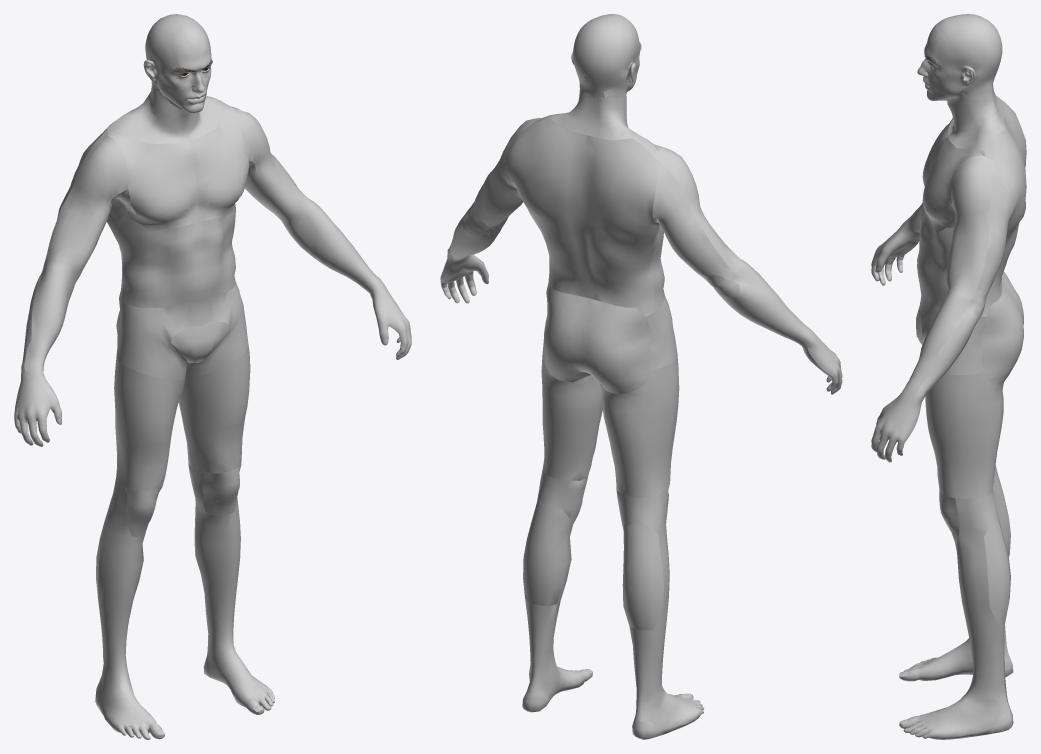
Rendered from man.gltf.
3 renders of one model, left to right at view 1: azimuth 30°, elevation 25°; view 2: azimuth 150°, elevation 25°; view 3: azimuth 270°, elevation 25°, orthographic.
Parts seen in each view (by area): view 1: Arms Front Side, Thighs, Legs, Chest, Abdomen, Private Area, Feet, Backhand, Neck, Knees, Face, Scalp (+3 smaller); view 2: Back, Thighs, Arms Back Side, Buttocks, Legs, Calf, Scalp, Arms Front Side, Feet, Neck, Hands, Private Area (+4 smaller); view 3: Thighs, Arms Front Side, Legs, Feet, Arms Back Side, Scalp, Back, Buttocks, Neck, Backhand, Chest, Calf (+6 smaller).
Part boxes in pixels (x1=…): Arms Front Side: x1=24, y1=106, x2=383, y2=371; Thighs: x1=114, y1=344, x2=250, y2=491; Legs: x1=98, y1=464, x2=240, y2=675; Chest: x1=109, y1=106, x2=248, y2=232; Abdomen: x1=107, y1=203, x2=236, y2=307; Private Area: x1=116, y1=283, x2=248, y2=379; Feet: x1=97, y1=637, x2=274, y2=739; Backhand: x1=14, y1=284, x2=411, y2=445; Neck: x1=102, y1=85, x2=229, y2=144; Knees: x1=125, y1=466, x2=240, y2=536; Face: x1=154, y1=36, x2=212, y2=107; Scalp: x1=145, y1=14, x2=208, y2=93; Back: x1=506, y1=118, x2=658, y2=316; Thighs: x1=541, y1=339, x2=679, y2=497; Arms Back Side: x1=447, y1=127, x2=814, y2=347; Buttocks: x1=543, y1=287, x2=651, y2=393; Legs: x1=525, y1=468, x2=669, y2=698; Calf: x1=523, y1=497, x2=663, y2=630; Scalp: x1=573, y1=14, x2=637, y2=97; Arms Front Side: x1=452, y1=118, x2=814, y2=347; Feet: x1=526, y1=663, x2=704, y2=735; Neck: x1=530, y1=90, x2=658, y2=157; Hands: x1=441, y1=255, x2=837, y2=394; Private Area: x1=544, y1=296, x2=677, y2=370; Thighs: x1=925, y1=371, x2=1003, y2=498; Arms Front Side: x1=904, y1=155, x2=993, y2=395; Legs: x1=955, y1=465, x2=1006, y2=695; Feet: x1=899, y1=638, x2=1010, y2=739; Arms Back Side: x1=913, y1=160, x2=1014, y2=402; Scalp: x1=935, y1=14, x2=1002, y2=96; Back: x1=981, y1=96, x2=1026, y2=316; Buttocks: x1=981, y1=271, x2=1023, y2=384; Neck: x1=947, y1=85, x2=1004, y2=159; Backhand: x1=871, y1=222, x2=921, y2=461; Chest: x1=922, y1=118, x2=984, y2=232; Calf: x1=984, y1=470, x2=1010, y2=625.
Bounding box in the file's own units: 1.09 × 1.83 × 0.3741.
